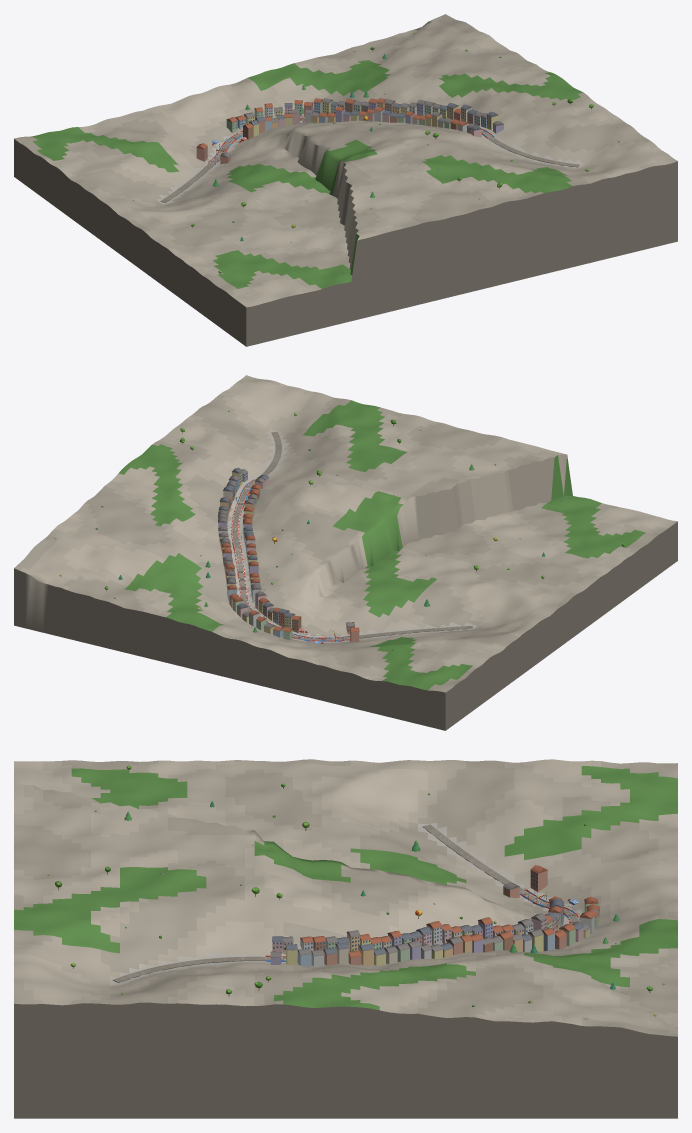
3 views of the same model, one above another, from view 1: azimuth 30°, elevation 25°; view 2: azimuth 150°, elevation 25°; view 3: azimuth 270°, elevation 25° (orthographic). The views are drawn at different scales.
Parts seen in each view (by area): view 1: grass, buildings, road; view 2: grass, buildings, road, hay; view 3: grass, buildings, road.
Part boxes in pixels (x1,y1,x2,y2): grass: (14,14,677,346); buildings: (196,98,503,163); road: (160,119,579,202); grass: (14,375,677,730); buildings: (218,467,359,643); road: (232,431,472,640); hay: (231,479,349,641); grass: (14,759,677,1118); buildings: (270,865,599,966); road: (113,824,579,982).
Bounding box in the file's own units: 518 × 99.41 × 483.
